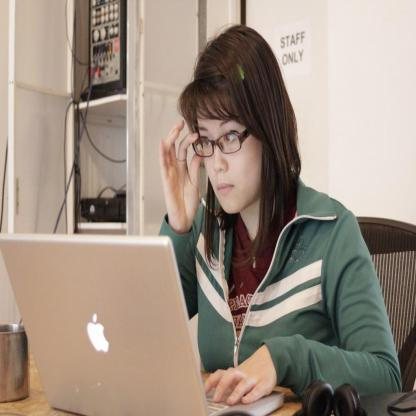board: (0, 237, 284, 416)
